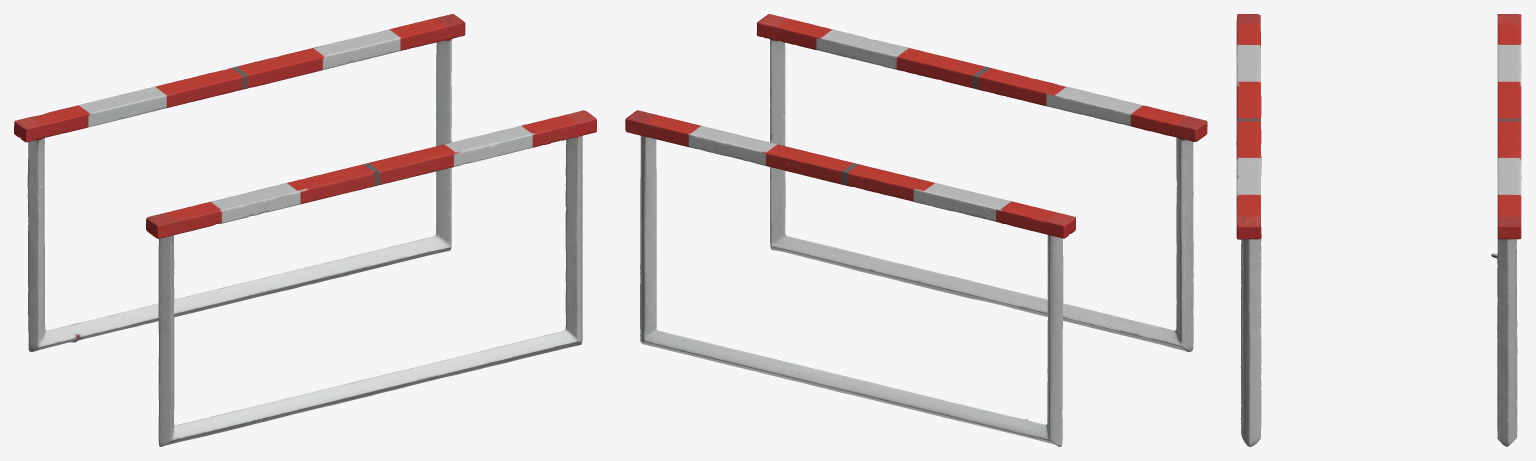
File: hurdle.glb
3 renders of one model, left to right at view 1: azimuth 30°, elevation 25°; view 2: azimuth 150°, elevation 25°; view 3: azimuth 270°, elevation 25°, orthographic.
Bounding box in the file's own units: 2 × 0.9951 × 1.13.
Materials: 1 (1 with a texture image).
